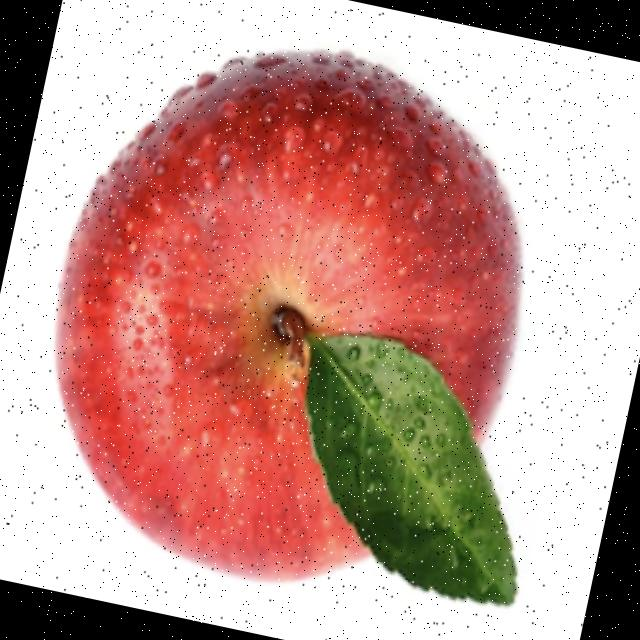Ripe: (0, 0, 571, 635)
